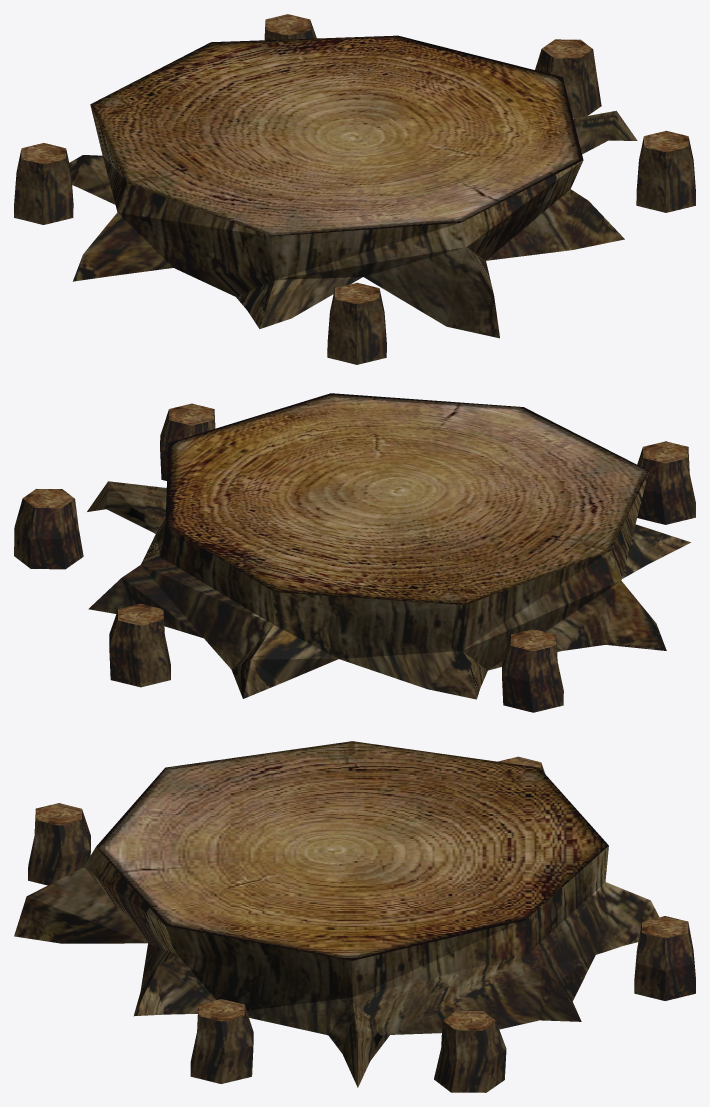
The picture shows the model from 3 angles, top to bottom: view 1: azimuth 30°, elevation 25°; view 2: azimuth 150°, elevation 25°; view 3: azimuth 270°, elevation 25°; orthographic projection. The views are drawn at different scales.
Visible parts, largest first — view 1: Box01; view 2: Box01; view 3: Box01.
Boxes of the visible parts, x1,y1,x2,y2 form: Box01: [14, 14, 695, 364]; Box01: [14, 393, 695, 712]; Box01: [14, 741, 695, 1092].
Size of the model in its own units: 6.2 by 0.8894 by 6.12.
